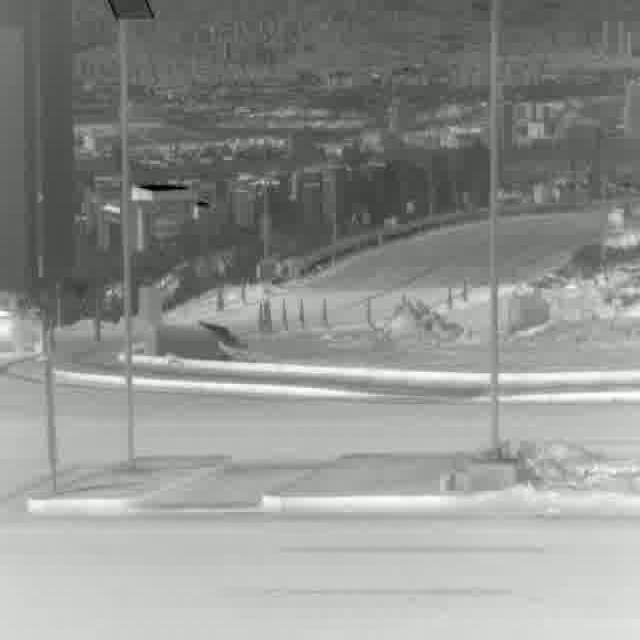Car: (0, 289, 46, 362), (606, 201, 632, 231)
